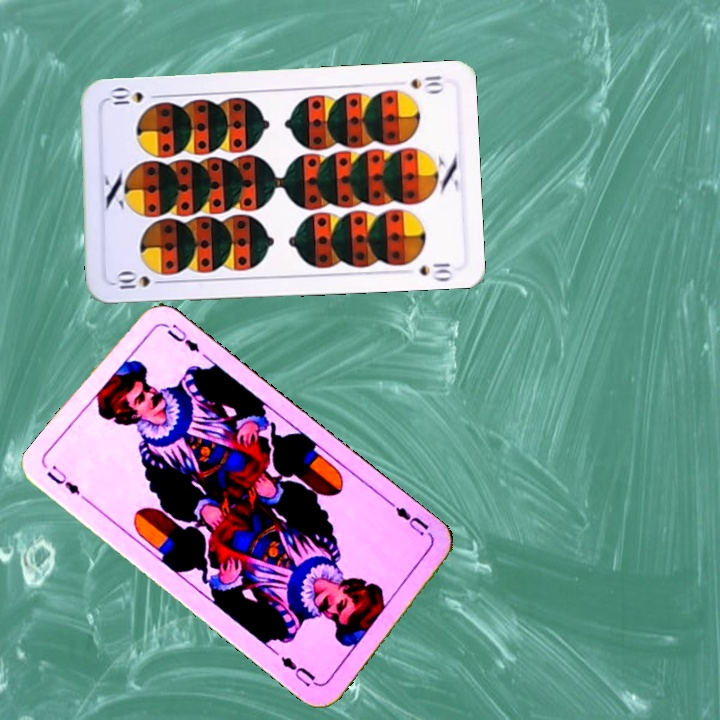EU: (42, 461, 93, 506), (387, 498, 432, 539)
S10: (113, 269, 169, 291), (407, 72, 446, 95)
